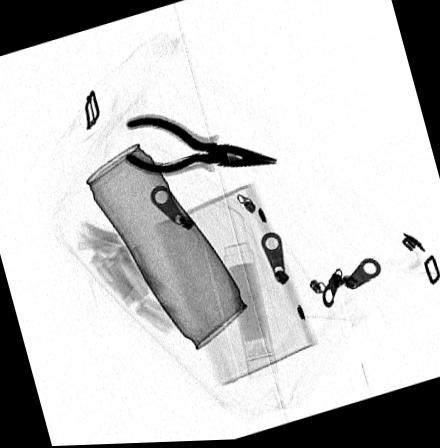Pliers: (124, 113, 279, 175)
